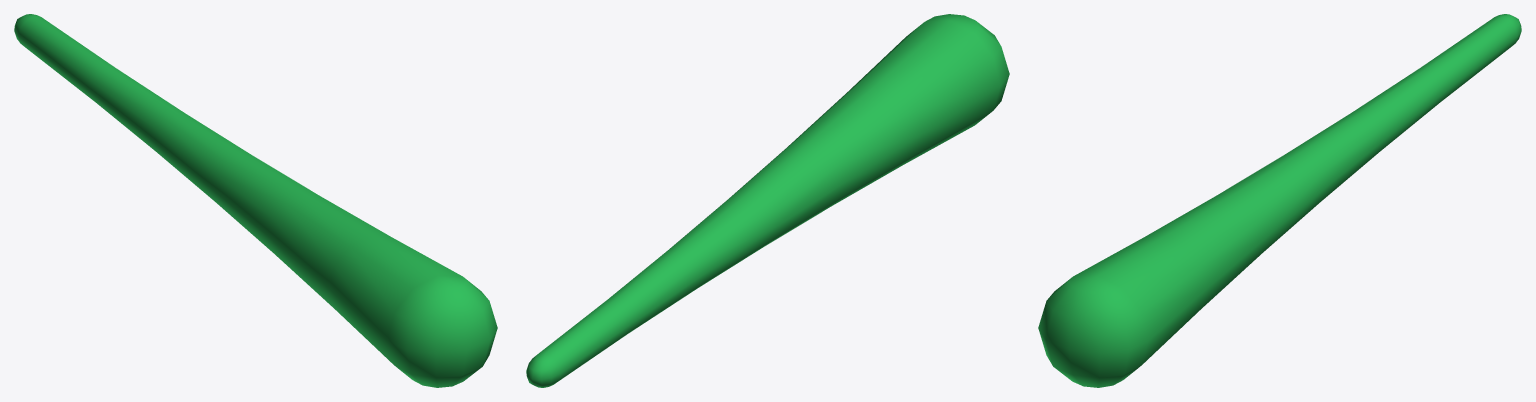
The model's file is BlobTentacle.FBX.
The picture shows the model from 3 angles, left to right: view 1: azimuth 30°, elevation 25°; view 2: azimuth 150°, elevation 25°; view 3: azimuth 330°, elevation 25°; orthographic projection.
Parts seen in each view (by area): view 1: BlobTentacle; view 2: BlobTentacle; view 3: BlobTentacle.
Boxes of the visible parts, bbox=[...] form: BlobTentacle: bbox=[14, 14, 497, 387]; BlobTentacle: bbox=[526, 14, 1009, 387]; BlobTentacle: bbox=[1038, 14, 1521, 387].
Size of the model in its own units: 14.6 by 14.6 by 112.
